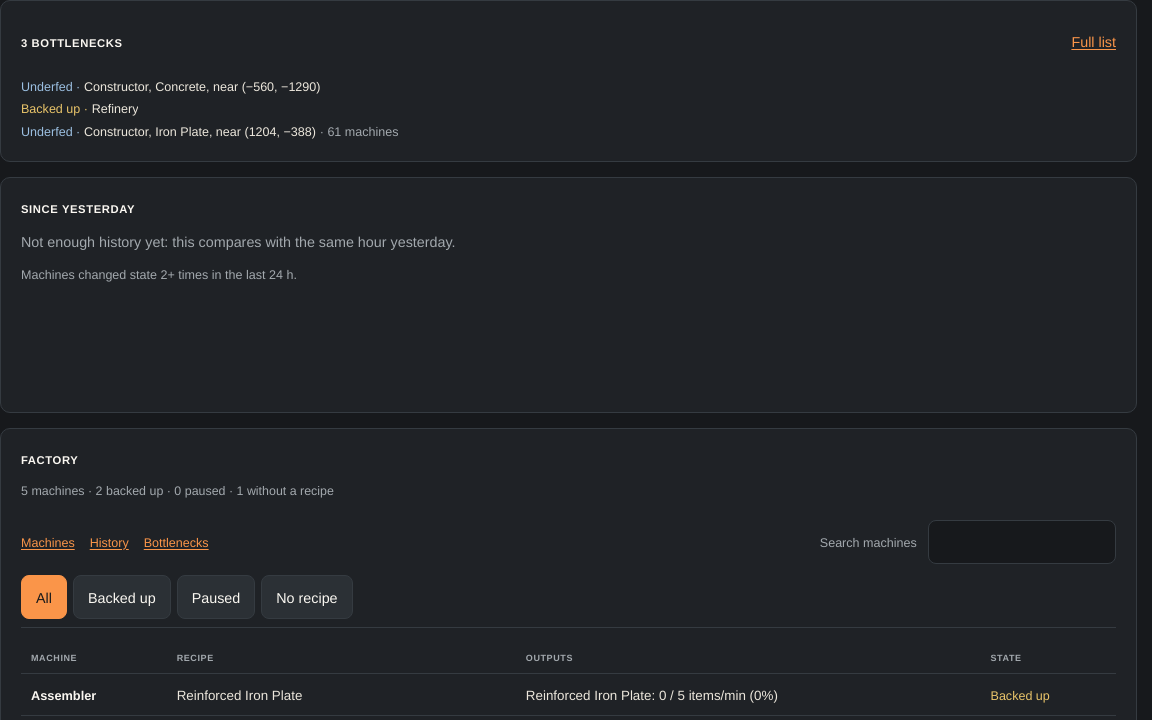
it: FactoryView deep links › writes the search back to the URL as typed, keeping other parameters, and drops it when cleared
Type "iron " into the search field labelled "Search machines".
click(1022, 542); type("iron ")  # box x1=928 y1=520 x2=1116 y2=564
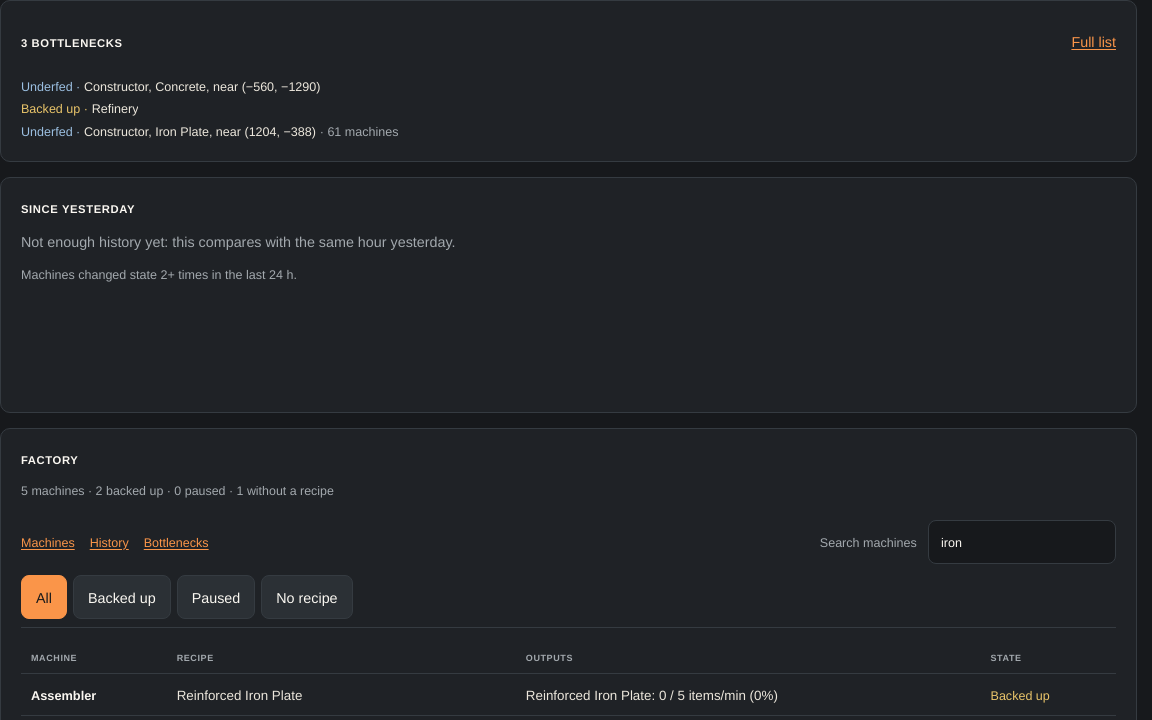
Clear the search field labelled "Search machines" at point(1022, 542), box x1=928 y1=520 x2=1116 y2=564
(page scrolled)
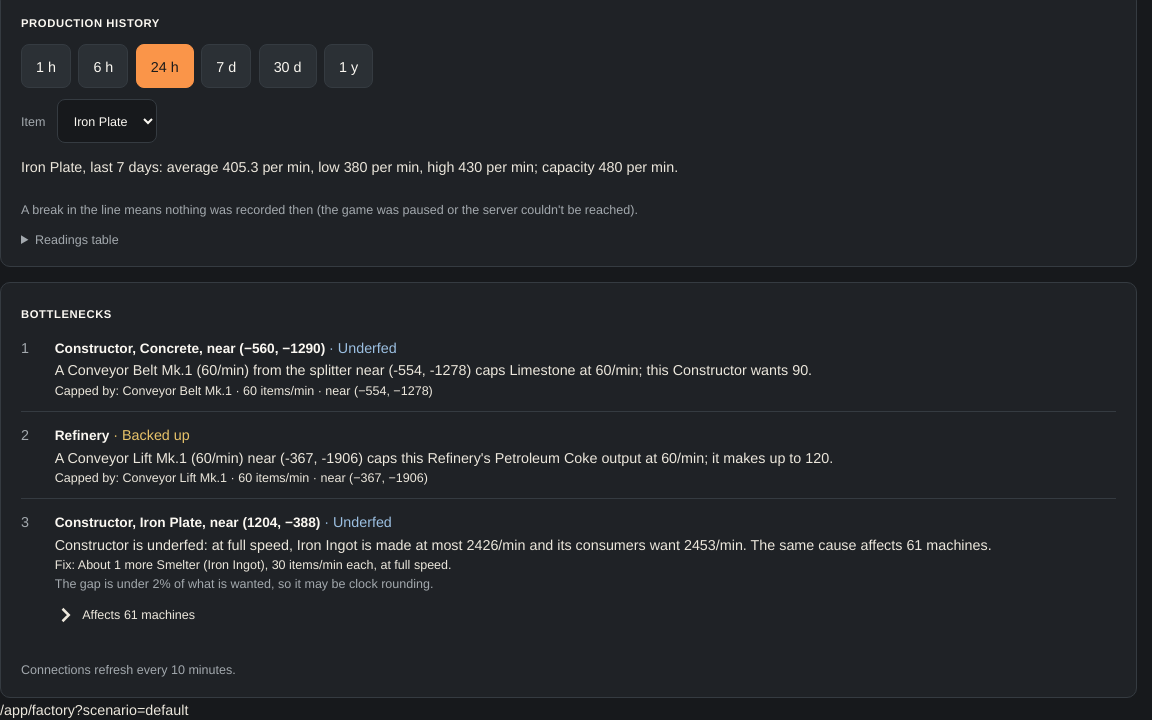
expect the text named "URL" reads "/app/factory?scenario=default": met, box x1=0 y1=700 x2=188 y2=718
